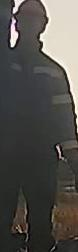gloves: (63, 143, 77, 175)
helmet: (13, 0, 49, 25)
vest: (10, 52, 65, 173)
